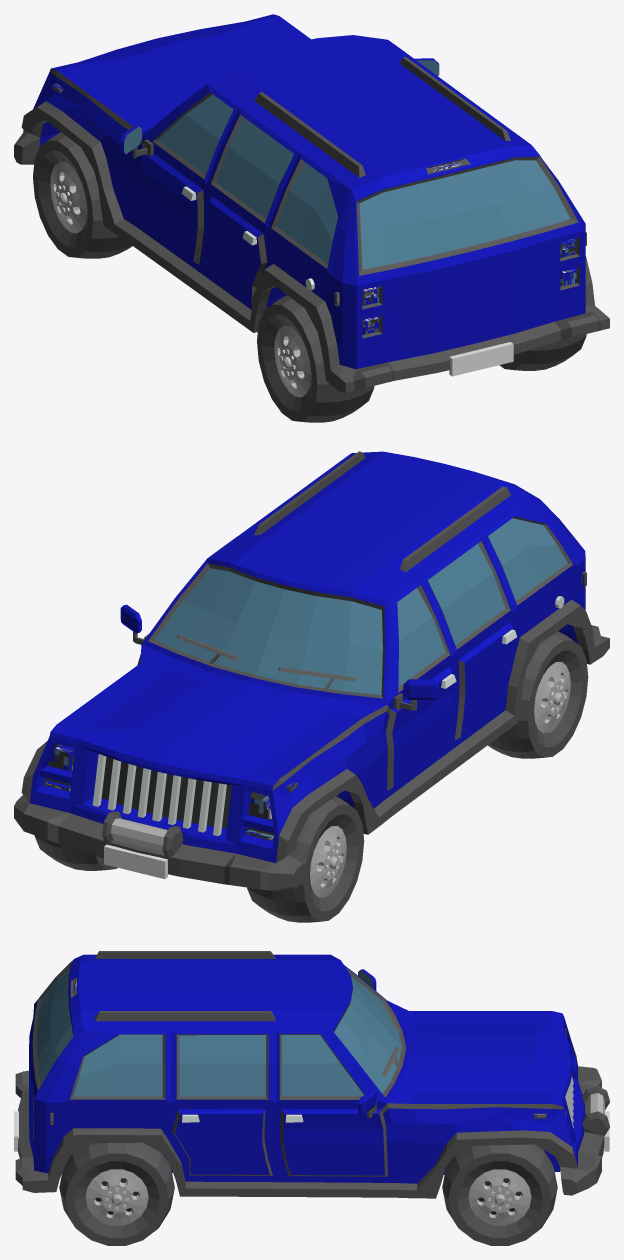
Rendered from carro.fbx.
3 renders of one model, top to bottom at view 1: azimuth 30°, elevation 25°; view 2: azimuth 150°, elevation 25°; view 3: azimuth 270°, elevation 25°, orthographic. The views are drawn at different scales.
Visible parts, largest first — view 1: Jeep_3_; view 2: Jeep_3_; view 3: Jeep_3_.
Part boxes in pixels (bbox=[...]): Jeep_3_: bbox=[14, 14, 609, 422]; Jeep_3_: bbox=[14, 451, 609, 922]; Jeep_3_: bbox=[14, 951, 609, 1245].
Bounding box in the file's own units: 13.97 × 10.46 × 26.5.
1 material, 1 textured.
